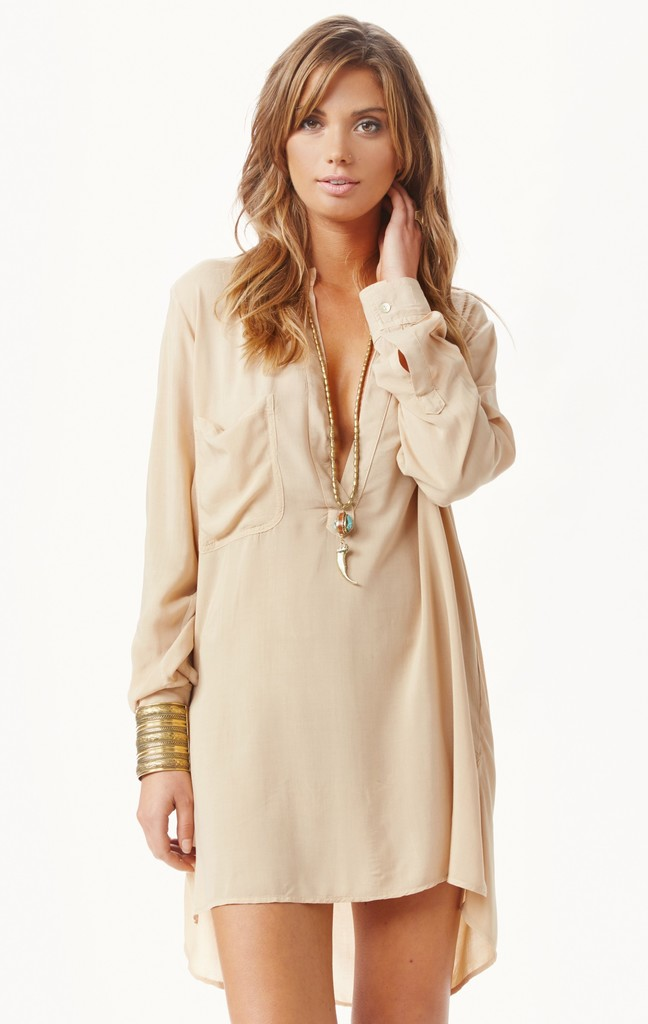Person: (127, 14, 516, 1024)
